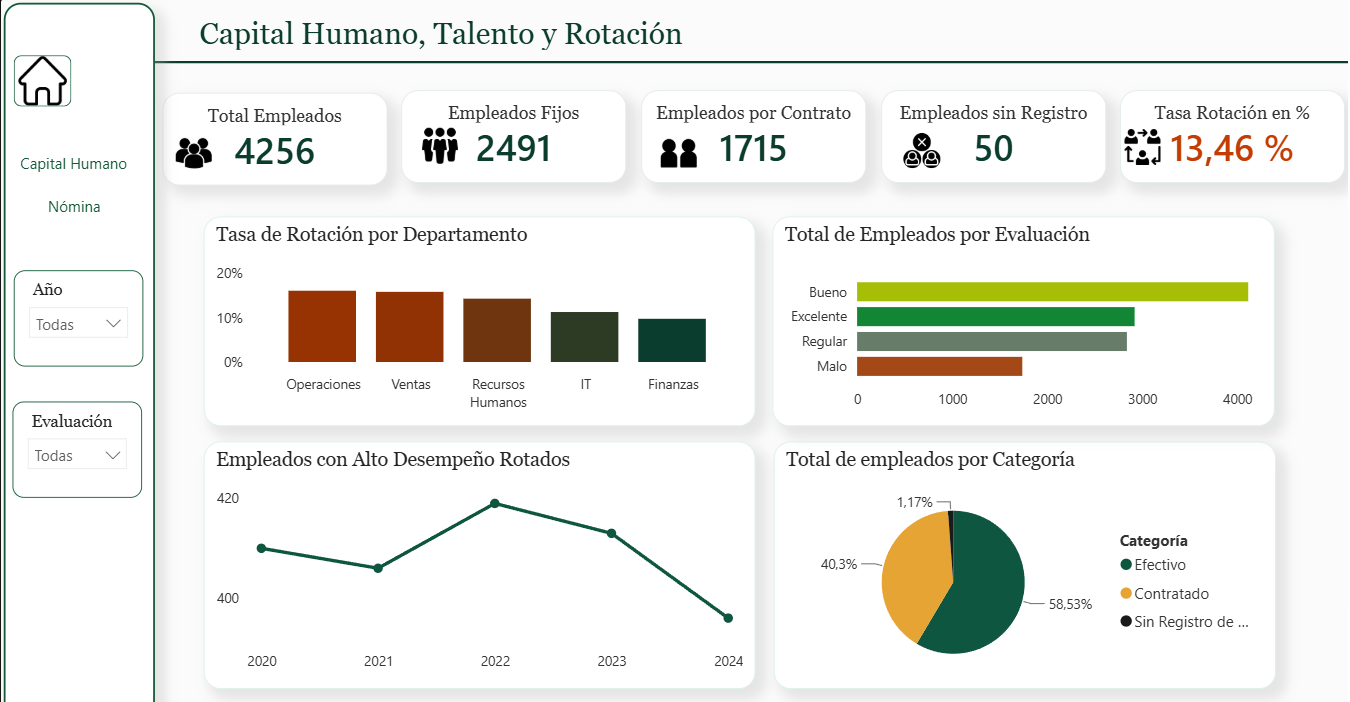

What the dashboard file says about the page in this screenshot:
{"tool":"powerbi","page":{"name":"Capital Humano","canvas":[1280,720],"ordinal":0},"visuals":[{"type":"shape","box":[3.5,3.3,134.4,641.1],"z":0,"group":"g6"},{"type":"columnChart","title":"Tasa de Rotación por Departamento","fields":{"Category":["Dim_Departamento.departamento_descripcion"],"Y":["medidas.Tasa_Rotacion_%"]},"box":[181.3,193.8,490.3,186.7],"z":0},{"type":"textbox","box":[172.2,10,460,40],"z":1000},{"type":"cardVisual","fields":{"Data":["medidas.Tasa_Rotacion_%"]},"box":[996,81.6,200,82],"z":1000,"group":"g5"},{"type":"shape","box":[137.8,50,1142.2,12.2],"z":2000},{"type":"cardVisual","fields":{"Data":["medidas.TotalEmpleados"]},"box":[144,83.8,200,82],"z":2000,"group":"g1"},{"type":"pieChart","title":"Total de empleados por Categoría","fields":{"Category":["Dim_Empleado.tipo_empleado"],"Y":["medidas.TotalEmpleados"]},"box":[687.3,393.8,446.7,220],"z":3000},{"type":"lineChart","title":"Empleados con Alto Desempeño Rotados","fields":{"Category":["Fact_Evaluación.año"],"Y":["medidas.Empleados_Alto_Desempeno_Rotados"]},"box":[181.3,393.8,490,220],"z":4000},{"type":"clusteredBarChart","title":"Total de Empleados por Evaluación","fields":{"Category":["Fact_Evaluación.evaluación"],"Y":["medidas.TotalEmpleados"]},"box":[686.9,193.8,446.7,186.7],"z":5000},{"type":"cardVisual","fields":{"Data":["medidas.EmpleadoEfect"]},"box":[357,81.6,200,82],"z":6000,"group":"g2"},{"type":"group","id":"g1","title":"Grupo 1","box":[144,83.8,200,82.2],"z":6000},{"type":"group","id":"g2","title":"Grupo 2","box":[357,81.6,200,82.2],"z":7000},{"type":"cardVisual","fields":{"Data":["medidas.EmpleadoContratado"]},"box":[570,81.6,200,82],"z":7000,"group":"g3"},{"type":"group","id":"g3","title":"Grupo 3","box":[570,81.6,200,82.2],"z":8000},{"type":"cardVisual","fields":{"Data":["medidas.EmpleadoSinRegist"]},"box":[783,81.6,200,82],"z":8000,"group":"g4"},{"type":"group","id":"g4","title":"Grupo 4","box":[783,81.6,200,82],"z":9000},{"type":"slicer","fields":{"Values":["Dim_Año.Año"]},"box":[12.9,241.6,115,86],"z":9000,"group":"g6"},{"type":"group","id":"g5","title":"Grupo 5","box":[996,81.6,200,82],"z":10000},{"type":"group","id":"g6","title":"Grupo 6","box":[3.5,3.3,134.4,641.1],"z":11000},{"type":"slicer","fields":{"Values":["Fact_Evaluación.evaluación"]},"box":[11.5,357.9,115.6,86],"z":11000,"group":"g6"},{"type":"actionButton","box":[7.8,130,115.6,31.1],"z":12000},{"type":"actionButton","box":[7.8,168.9,116.7,31.1],"z":13000},{"type":"image","box":[151.8,121.6,40,32.2],"z":13001,"group":"g1"},{"type":"image","box":[371.1,114.9,40,32.2],"z":13002,"group":"g2"},{"type":"image","box":[996.2,116,40,32],"z":13003,"group":"g5"},{"type":"image","box":[796,116,45.6,38],"z":13004,"group":"g4"},{"type":"image","box":[583.6,121.6,40,32],"z":13005,"group":"g3"},{"type":"image","box":[12.6,49.9,51.1,45.4],"z":13011,"group":"g6"}]}

Visuals, with their boxes on the page's 1280x720 design canvas (x1, y1, x2, y2). These are canvas units, not pixel positions in the 1350x702 screenshot, which may show the page scaled, cropped or inside an application window:
shape: box(4, 3, 138, 644)
"Tasa de Rotación por Departamento" columnChart: box(181, 194, 672, 380)
textbox: box(172, 10, 632, 50)
cardVisual - medidas.Tasa_Rotacion_%: box(996, 82, 1196, 164)
shape: box(138, 50, 1280, 62)
cardVisual - medidas.TotalEmpleados: box(144, 84, 344, 166)
"Total de empleados por Categoría" pieChart: box(687, 394, 1134, 614)
"Empleados con Alto Desempeño Rotados" lineChart: box(181, 394, 671, 614)
"Total de Empleados por Evaluación" clusteredBarChart: box(687, 194, 1134, 380)
cardVisual - medidas.EmpleadoEfect: box(357, 82, 557, 164)
"Grupo 1" group: box(144, 84, 344, 166)
"Grupo 2" group: box(357, 82, 557, 164)
cardVisual - medidas.EmpleadoContratado: box(570, 82, 770, 164)
"Grupo 3" group: box(570, 82, 770, 164)
cardVisual - medidas.EmpleadoSinRegist: box(783, 82, 983, 164)
"Grupo 4" group: box(783, 82, 983, 164)
slicer - Dim_Año.Año: box(13, 242, 128, 328)
"Grupo 5" group: box(996, 82, 1196, 164)
"Grupo 6" group: box(4, 3, 138, 644)
slicer - Fact_Evaluación.evaluación: box(12, 358, 127, 444)
actionButton: box(8, 130, 123, 161)
actionButton: box(8, 169, 124, 200)
image: box(152, 122, 192, 154)
image: box(371, 115, 411, 147)
image: box(996, 116, 1036, 148)
image: box(796, 116, 842, 154)
image: box(584, 122, 624, 154)
image: box(13, 50, 64, 95)
